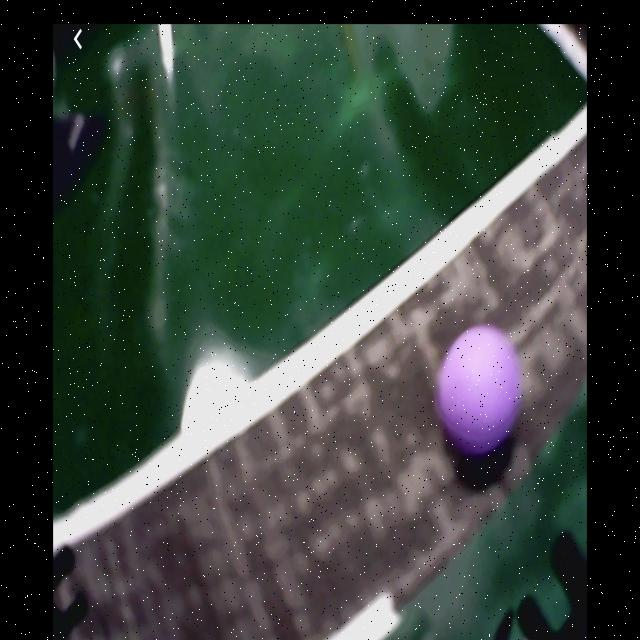ball: (437, 326, 516, 451)
